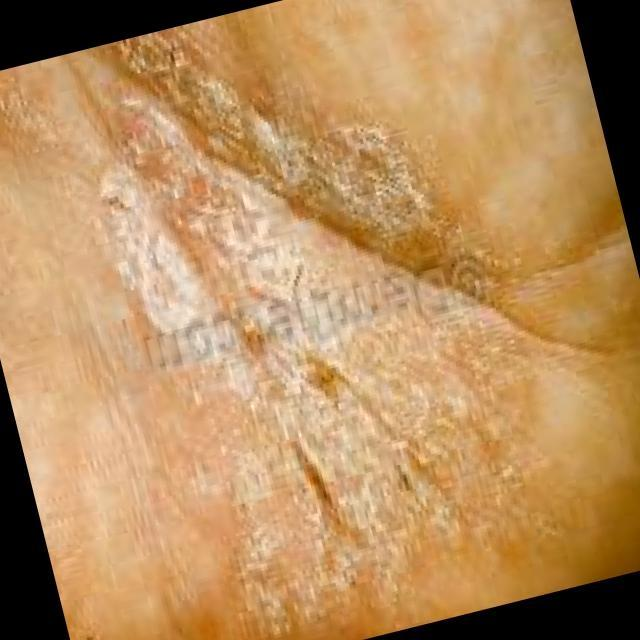Eczema: (20, 49, 547, 605)
